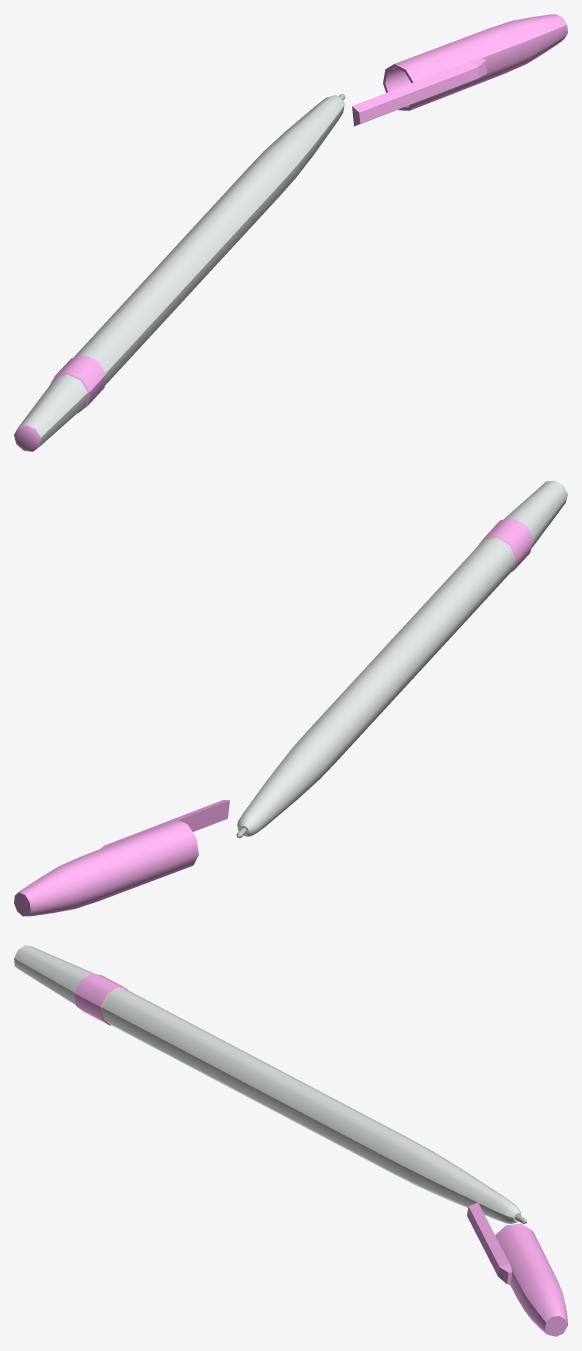
The model's file is 벗겨진볼펜_풍경.fbx.
The picture shows the model from 3 angles, top to bottom: view 1: azimuth 30°, elevation 25°; view 2: azimuth 210°, elevation 25°; view 3: azimuth 270°, elevation 25°; orthographic projection. The views are drawn at different scales.
Visible parts, largest first — view 1: pen.002, hood_01.002; view 2: pen.002, hood_01.002; view 3: pen.002, hood_01.002.
Part boxes in pixels (<box>): pen.002: <box>14,94,345,451</box>; hood_01.002: <box>352,14,567,126</box>; pen.002: <box>236,480,567,838</box>; hood_01.002: <box>14,800,229,916</box>; pen.002: <box>14,945,526,1223</box>; hood_01.002: <box>467,1202,567,1336</box>.
Bounding box in the file's own units: 1744 × 88.81 × 1094.
